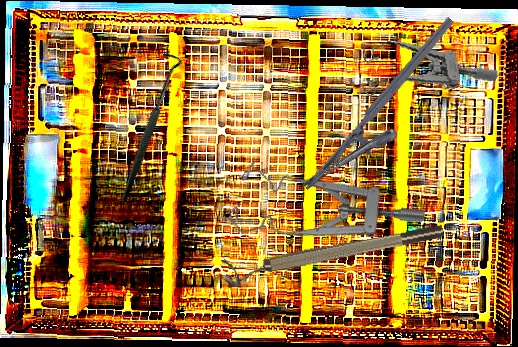Fixation Ring: (220, 221, 447, 289)
Hook Surgical: (66, 48, 227, 204)
Needle Holder: (300, 15, 479, 212)
Speculum: (218, 126, 428, 306), (346, 20, 501, 108)
